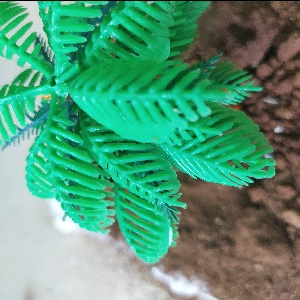plant: (2, 14, 269, 273)
